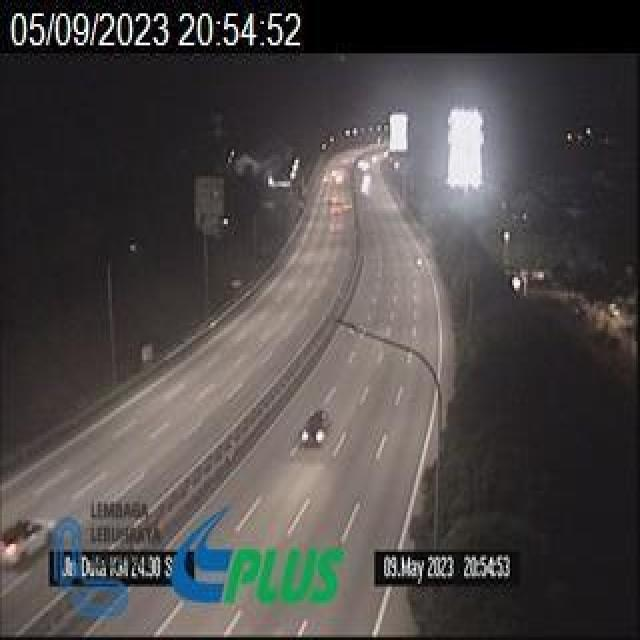Car: (0, 499, 52, 564), (296, 396, 336, 466)
